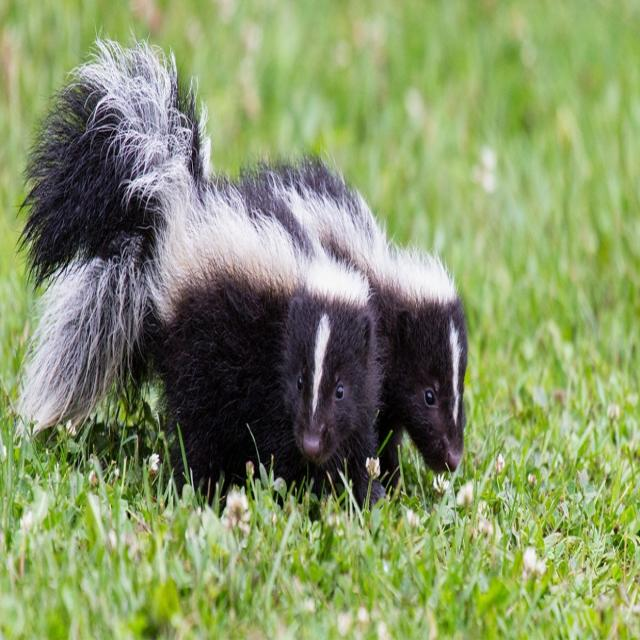Skunk: (28, 28, 470, 498)
